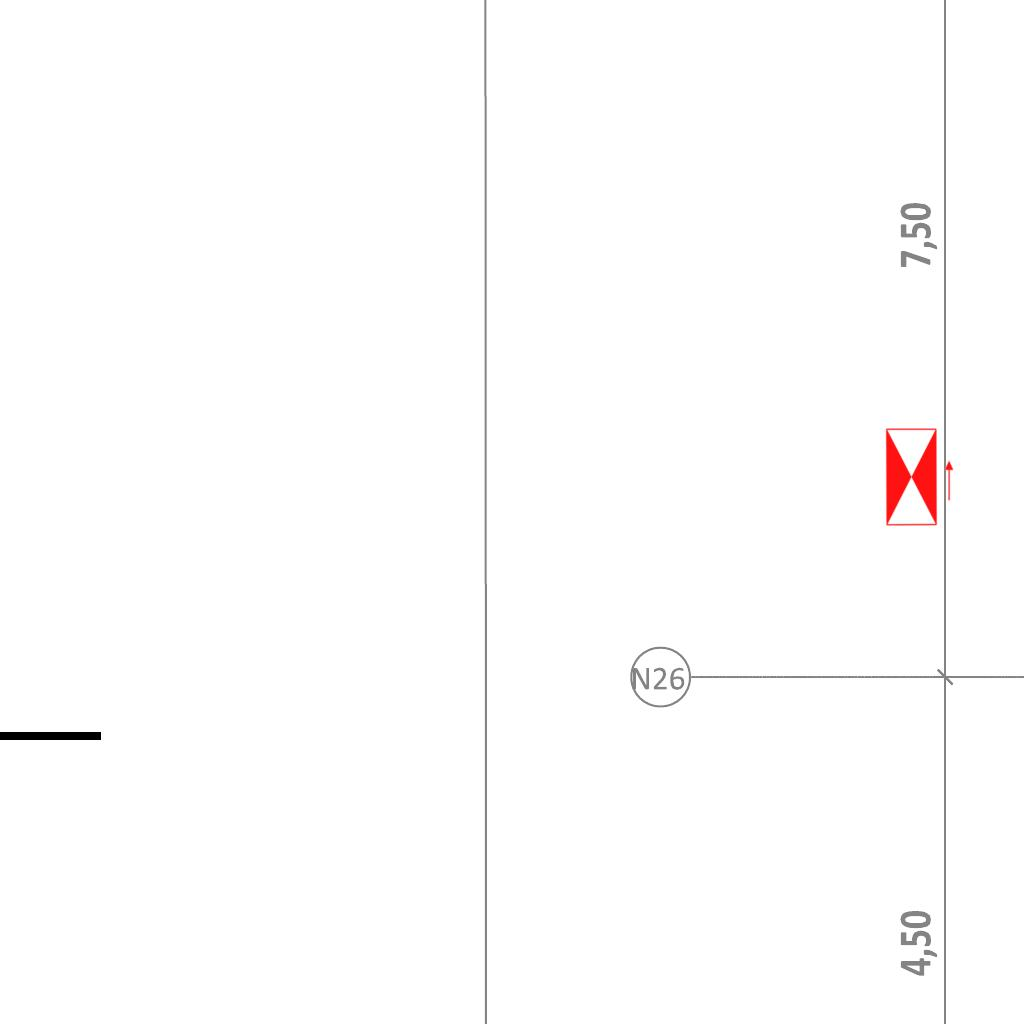Fluchtwegpiktogramm: (883, 425, 956, 529)
